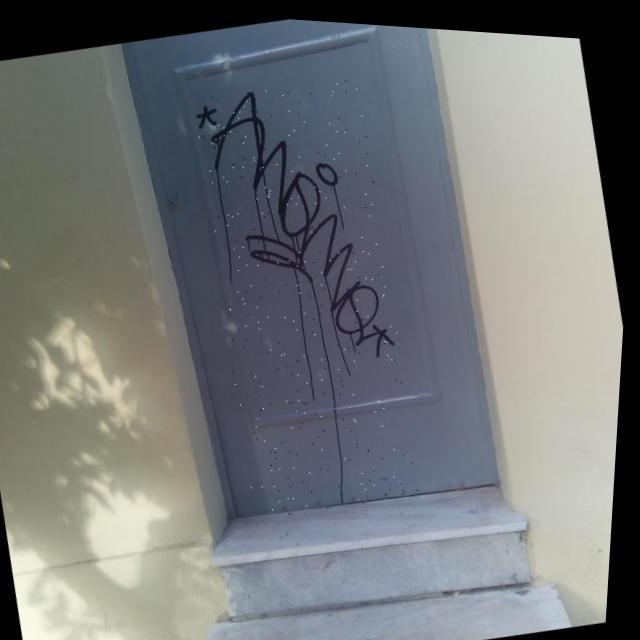-: (172, 60, 446, 523)
